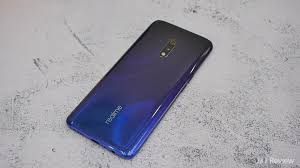mi: (60, 16, 218, 158)
